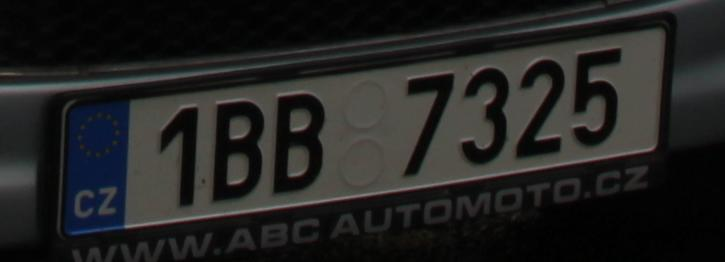1: (159, 107, 194, 208)
2: (518, 59, 560, 156)
3: (463, 69, 507, 166)
5: (575, 50, 623, 146)
7: (407, 74, 452, 178)
B: (274, 93, 325, 192), (215, 103, 261, 201)
